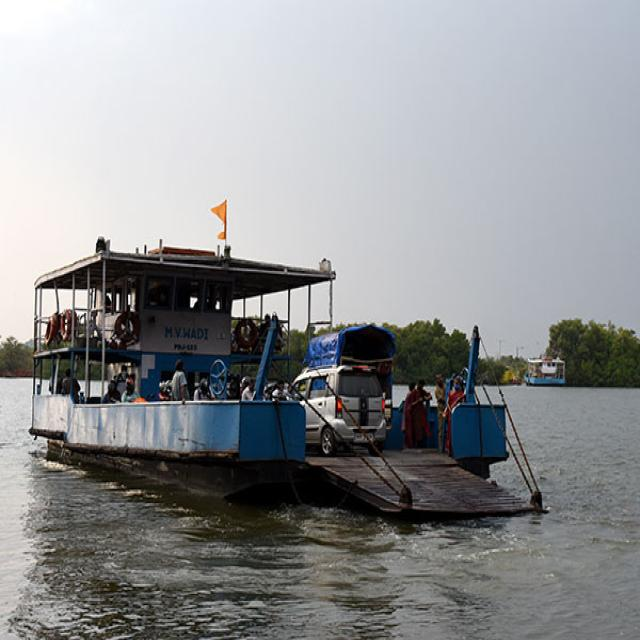cargoship: (45, 200, 571, 546)
